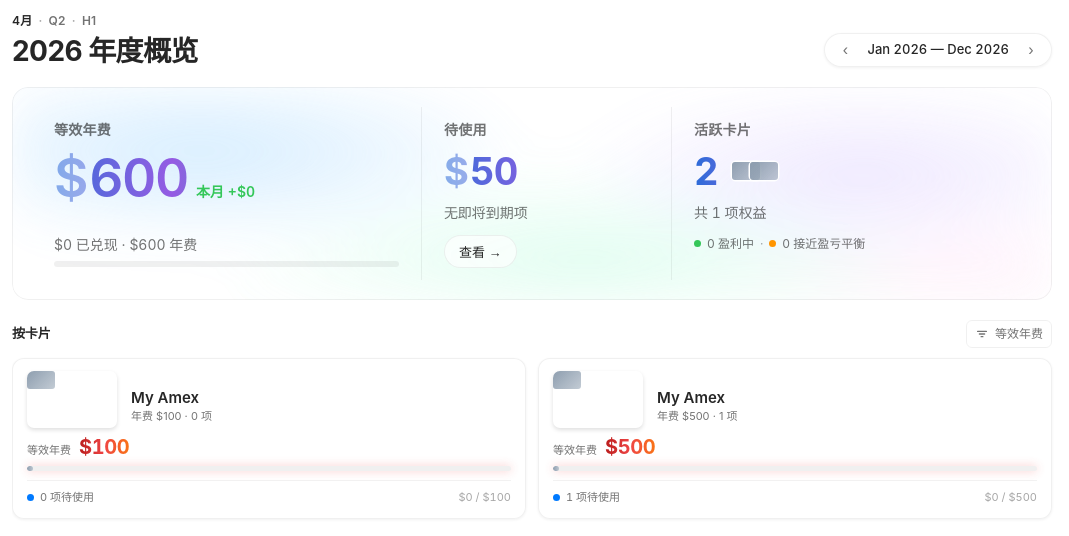
Test case: Dashboard › excludes cards opened after selected year from all year-scoped totals
expect the text with test id "active-card-count" reads "2": met, box [694, 148, 718, 194]
expect the text with test id "total-fee" reads "$600": met, box [129, 236, 166, 253]
// Previous year (2025): futureCard not yet opened
Click the button named "Previous year": {"x": 845, "y": 50} [833, 38, 857, 62]
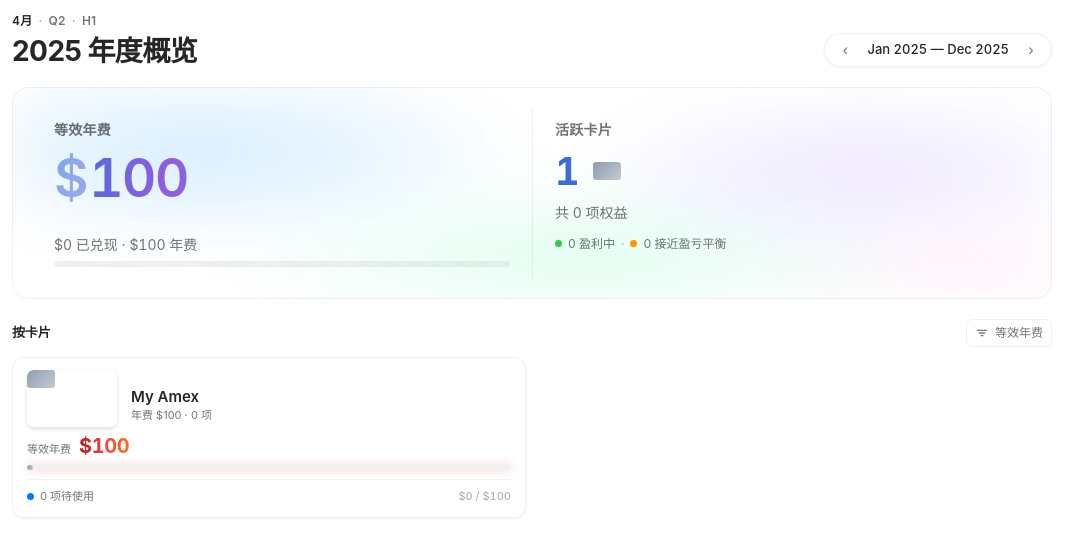
expect the number of buttons with class "dashboard__tile" is 1: met, box [12, 357, 526, 518]
expect the text with test id "active-card-count" reads "1": met, box [555, 148, 579, 194]
expect the text with test id "total-fee" reads "$100": met, box [129, 236, 166, 253]
